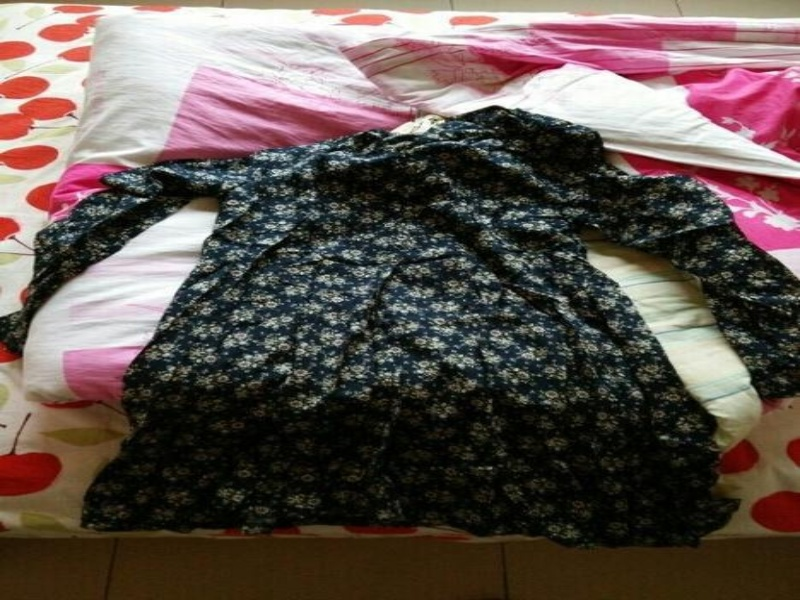long_sleeved_dress: (0, 102, 798, 551)
